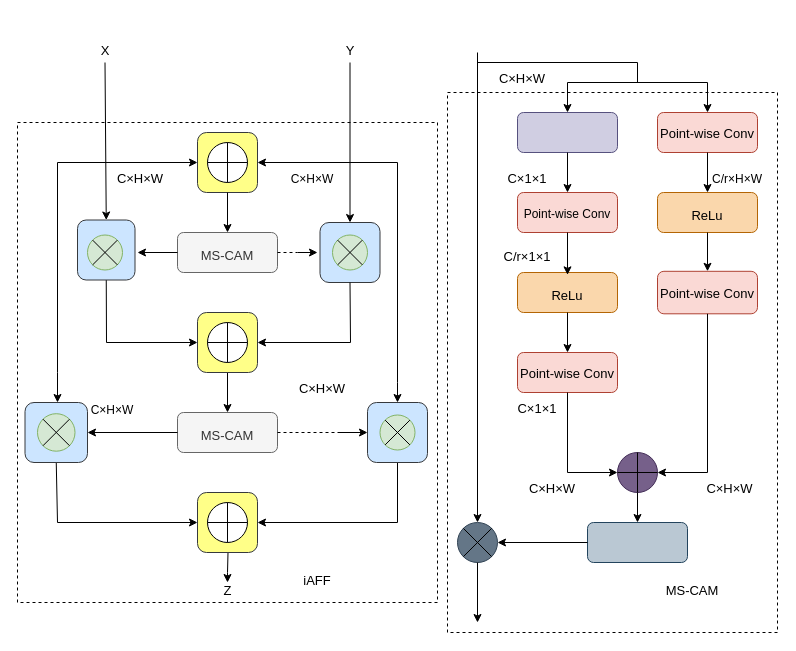
This 796x651 diagram has some shape labels left out. The shapes that lost their labels are listed below. From the top down, each one's centre as x and y in pixels, then its label:
point 567,132: AvgPooling
point 637,542: Sigmoid
